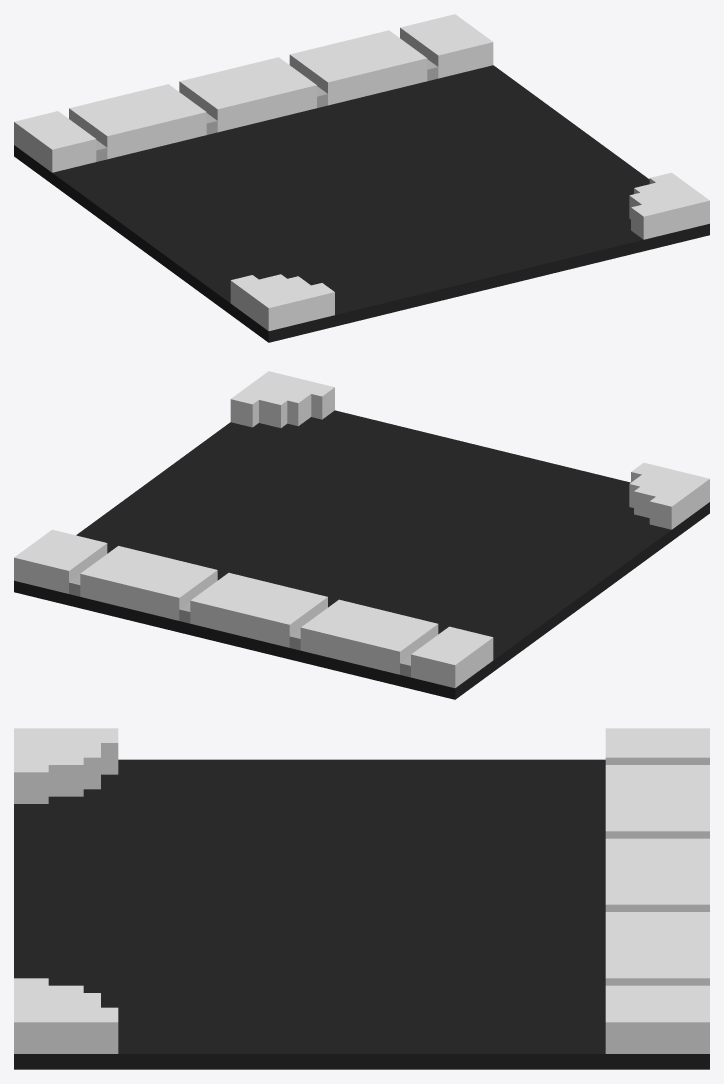
3 views of the same model, one above another, from view 1: azimuth 30°, elevation 25°; view 2: azimuth 150°, elevation 25°; view 3: azimuth 270°, elevation 25° (orthographic). The views are drawn at different scales.
Parts seen in each view (by area): view 1: Matrix_6; view 2: Matrix_6; view 3: Matrix_6.
Part boxes in pixels (bbox=[...]): Matrix_6: bbox=[14, 14, 709, 342]; Matrix_6: bbox=[14, 371, 709, 699]; Matrix_6: bbox=[14, 728, 709, 1069].
Size of the model in its own units: 40 by 3 by 40.
1 material, 1 textured.
